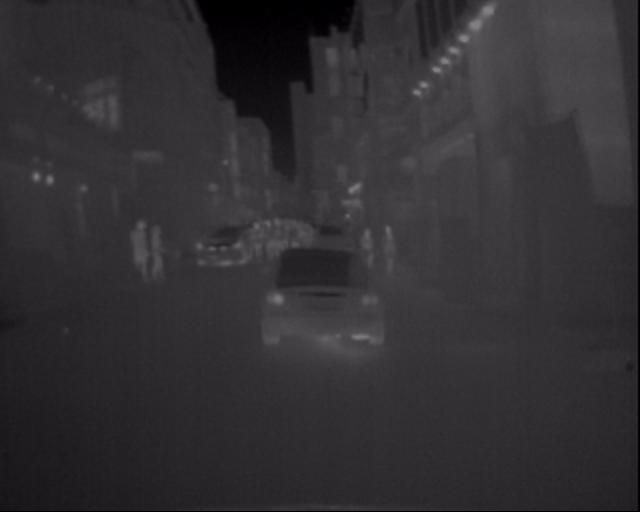person: (127, 226, 152, 292), (265, 218, 302, 251)
